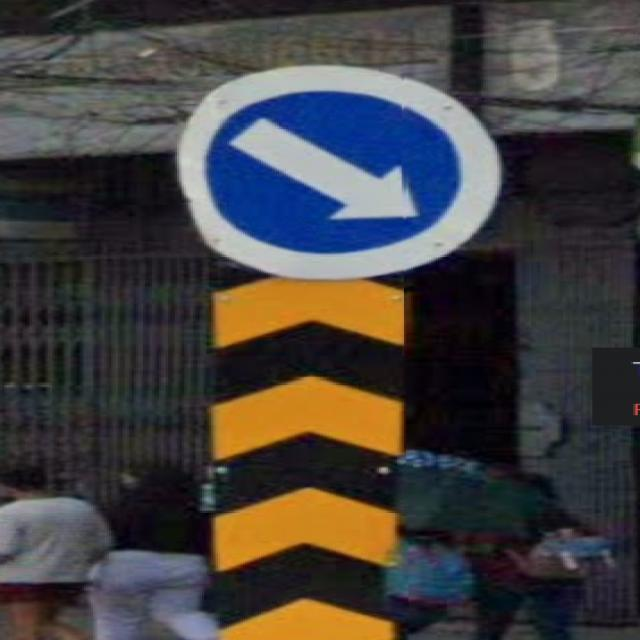keep right: (173, 63, 500, 279)
